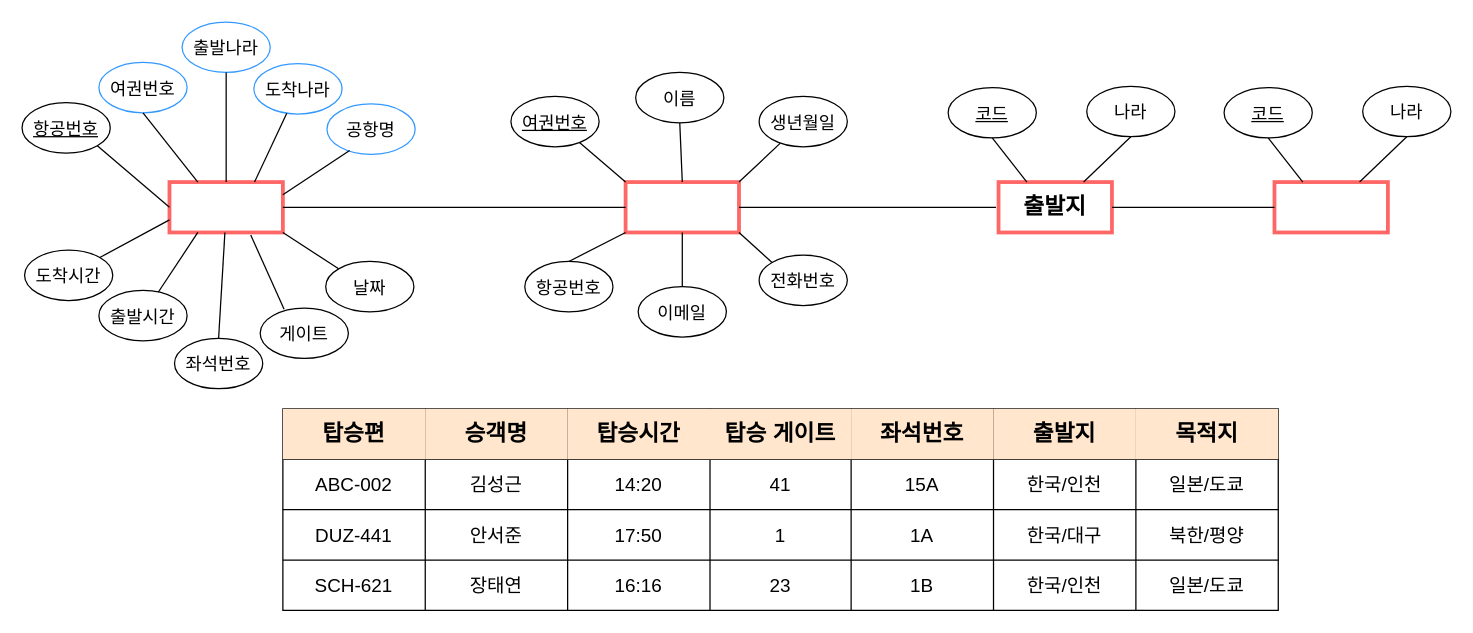
Some shapes in this 1473 by 633 pixel diagram are drawn without their labels. Each missing label, with the centre of its shape:
"도착지" goes at (1330,207).
"승객" goes at (681,207).
"항공권" goes at (225,207).
